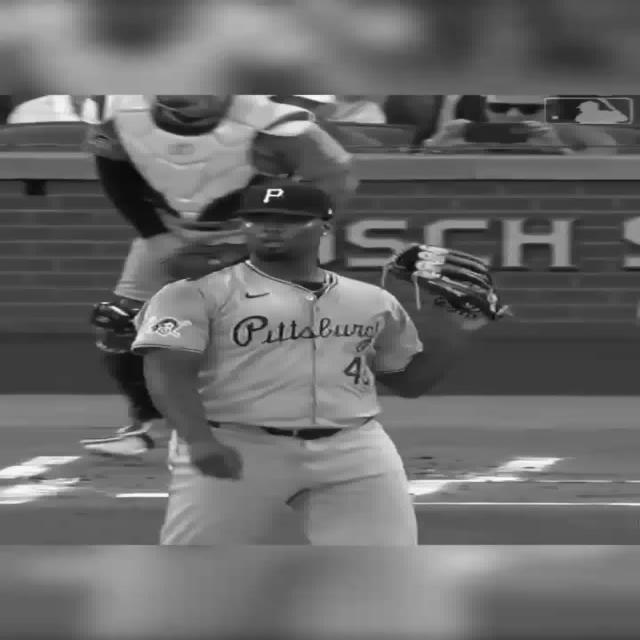baseball_glove: (378, 242, 522, 316)
